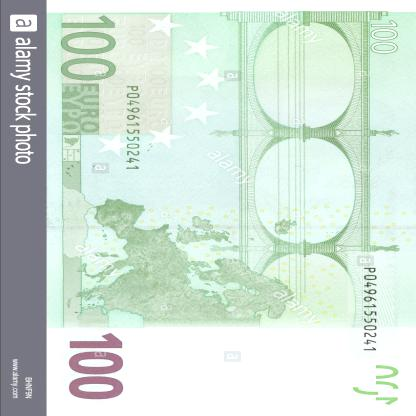euro_banknote: (32, 31, 416, 397)
